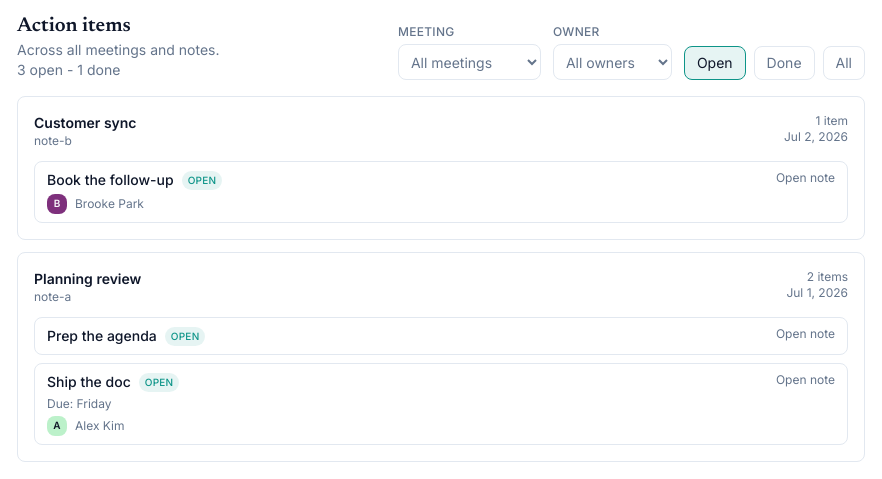
Test: ActionItemsScreen › filters action items by owner without showing non-matching rows
The width and height of the screenshot is (882, 479).
Expected: the link "Planning review" is shown, [34,269,141,289]
Expected: the link "Ship the doc Open Due: Friday A Alex Kim Open note" is shown, [34,363,848,445]
Select "Alex Kim" in the dropdown named "Filter action items by owner" at (612, 62), box [553,44,672,80]
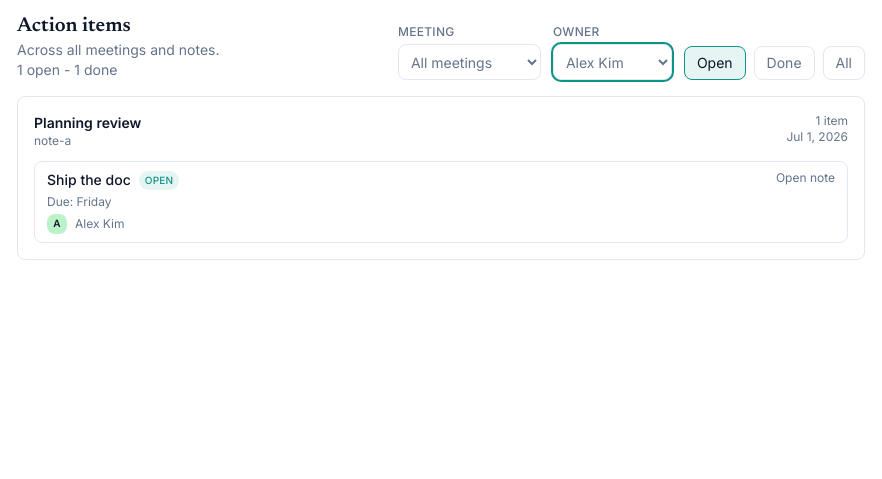
Expected: the link "Ship the doc Open Due: Friday A Alex Kim Open note" is shown, [34,161,848,243]
Now the link "Book the follow-up" is gone
Now the link "Prep the agenda" is gone
